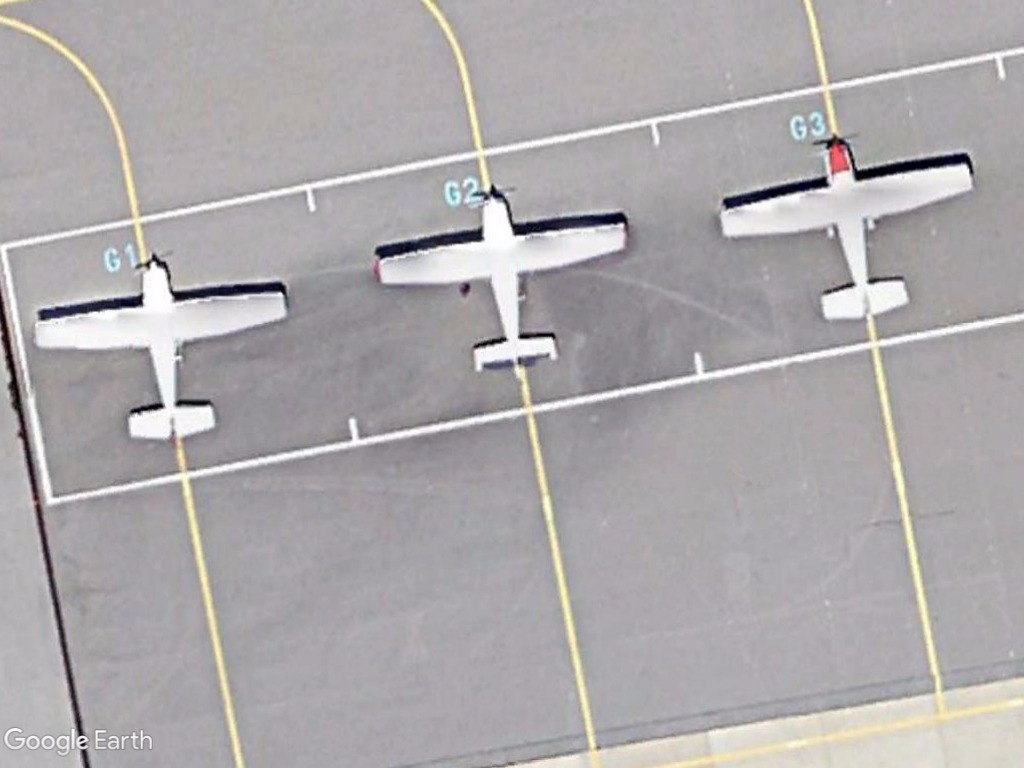trainer: (717, 129, 981, 331), (368, 183, 632, 378), (30, 254, 293, 446)
